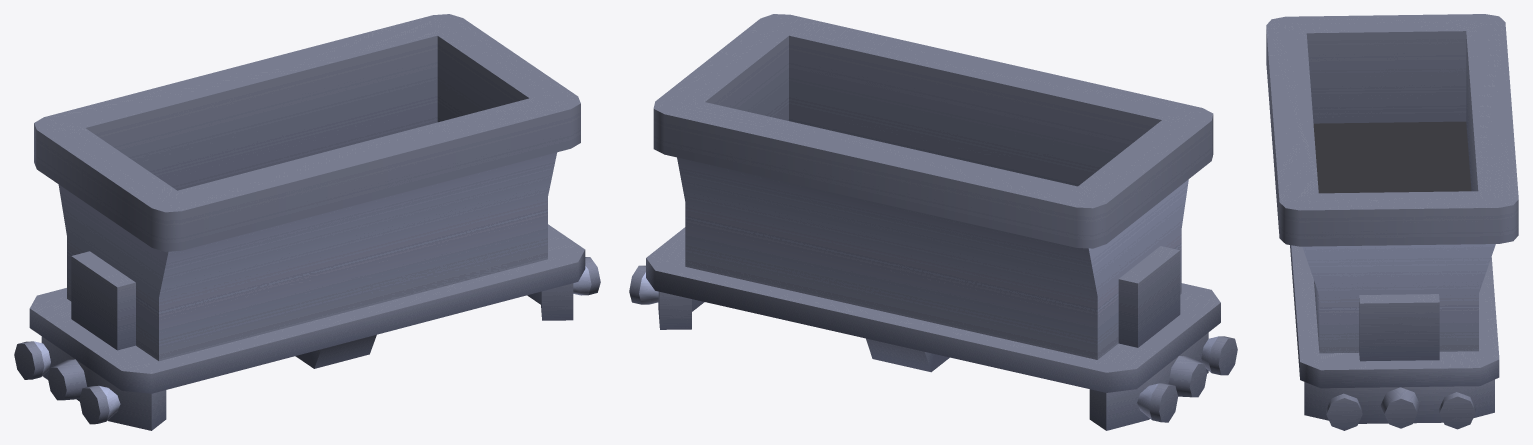
The model's file is train-carriage-wood_lev2.glb.
3 views of the same model, side by side, from view 1: azimuth 30°, elevation 25°; view 2: azimuth 150°, elevation 25°; view 3: azimuth 270°, elevation 25° (orthographic). The views are drawn at different scales.
Visible parts, largest first — view 1: train-carriage-wood_lev2; view 2: train-carriage-wood_lev2; view 3: train-carriage-wood_lev2.
Part boxes in pixels (x1,y1,x2,y2): train-carriage-wood_lev2: (14, 14, 600, 430); train-carriage-wood_lev2: (629, 14, 1237, 430); train-carriage-wood_lev2: (1266, 14, 1518, 430).
Bounding box in the file's own units: 3.18 × 1.33 × 1.48.
1 material, 1 textured.
